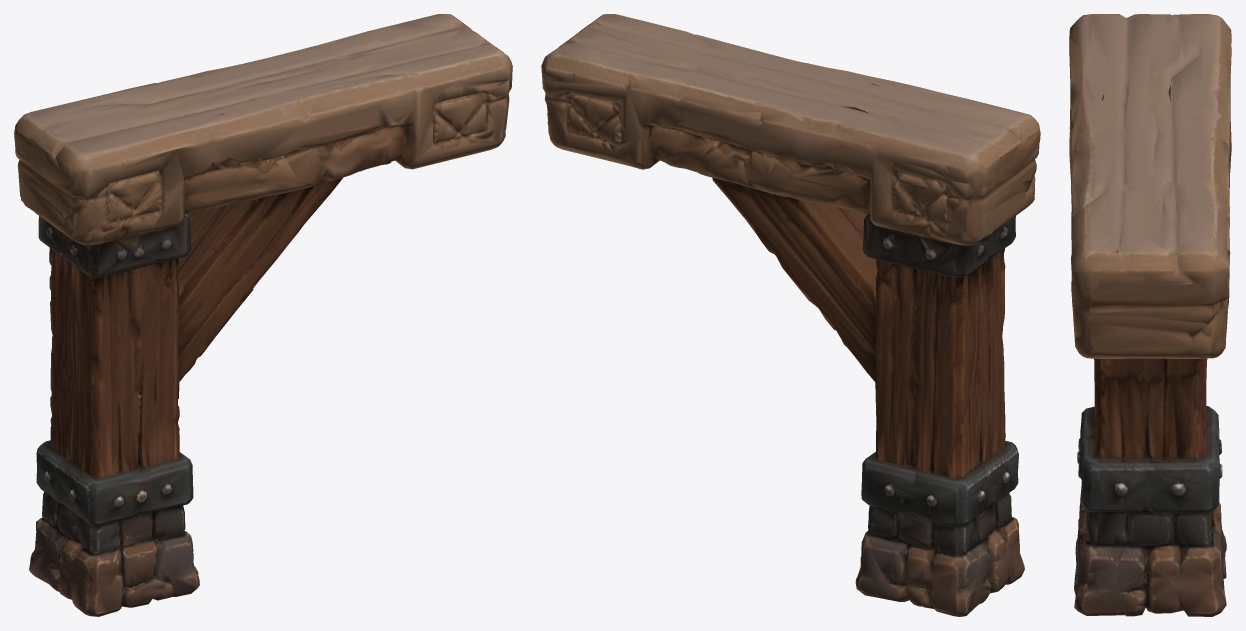
File: mesa_de_madera.glb
3 views of the same model, side by side, from view 1: azimuth 30°, elevation 25°; view 2: azimuth 150°, elevation 25°; view 3: azimuth 270°, elevation 25° (orthographic). The views are drawn at different scales.
Visible parts, largest first — view 1: mesa_de_madera; view 2: mesa_de_madera; view 3: mesa_de_madera.
Part boxes in pixels (bbox=[...]): mesa_de_madera: bbox=[14, 14, 512, 616]; mesa_de_madera: bbox=[541, 14, 1040, 616]; mesa_de_madera: bbox=[1069, 14, 1231, 616].
Size of what is drawn, in the model's own units: 0.8021 by 0.7999 by 0.2186.
1 material, 1 textured.
